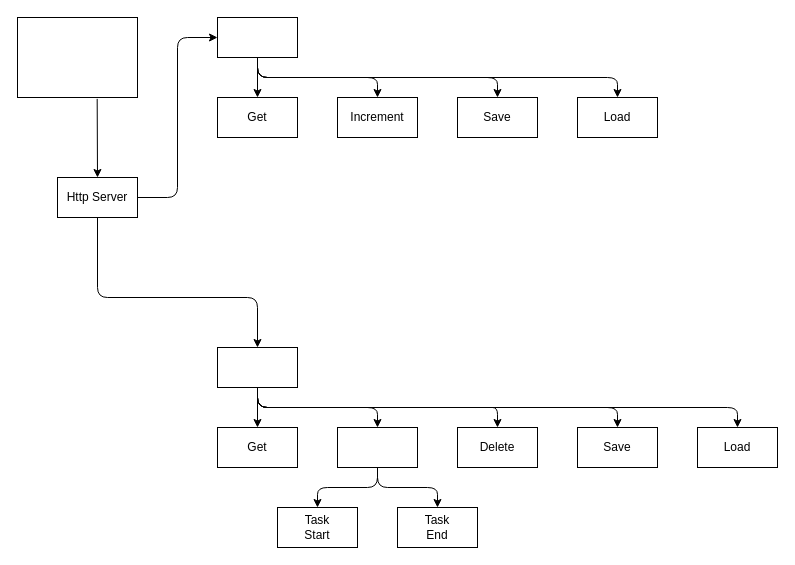
This 795x565 diagram has some shape labels left out. The box of each missing label's shape, as (x1, y1, x2, y2) in pixels:
Post: (336, 426, 418, 468)
Start: (16, 16, 138, 98)
T ask Router: (216, 346, 298, 388)
Time Router: (216, 16, 298, 58)
